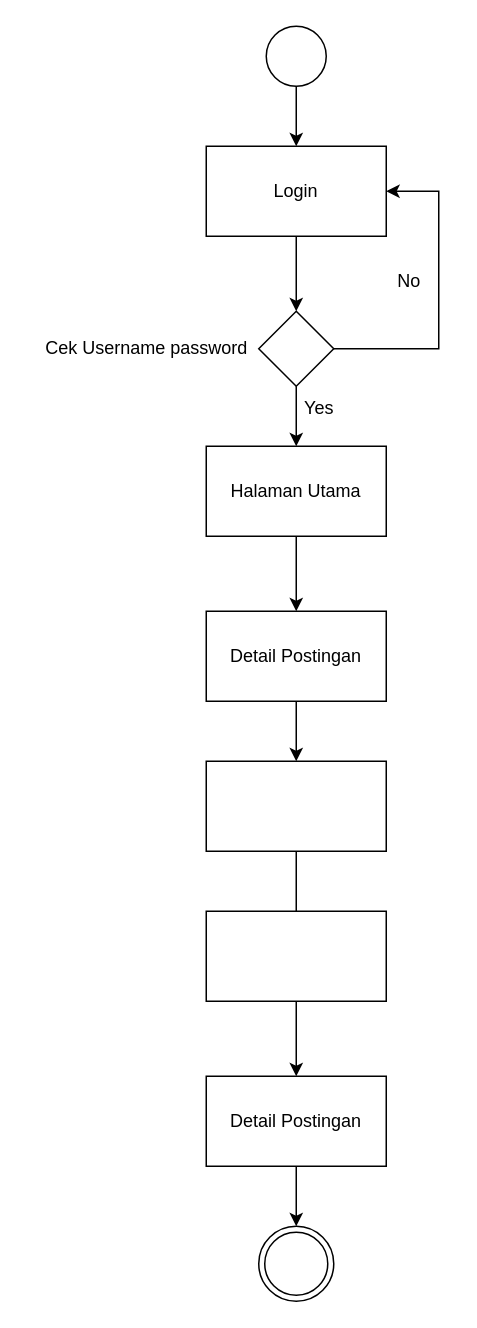
This 477x1328 diagram has some shape labels left out. The centre of each missing label's shape, as x and y in pixels:
"Alert Success" goes at pixel 295 955.
"Posting Komentar" goes at pixel 295 805.
